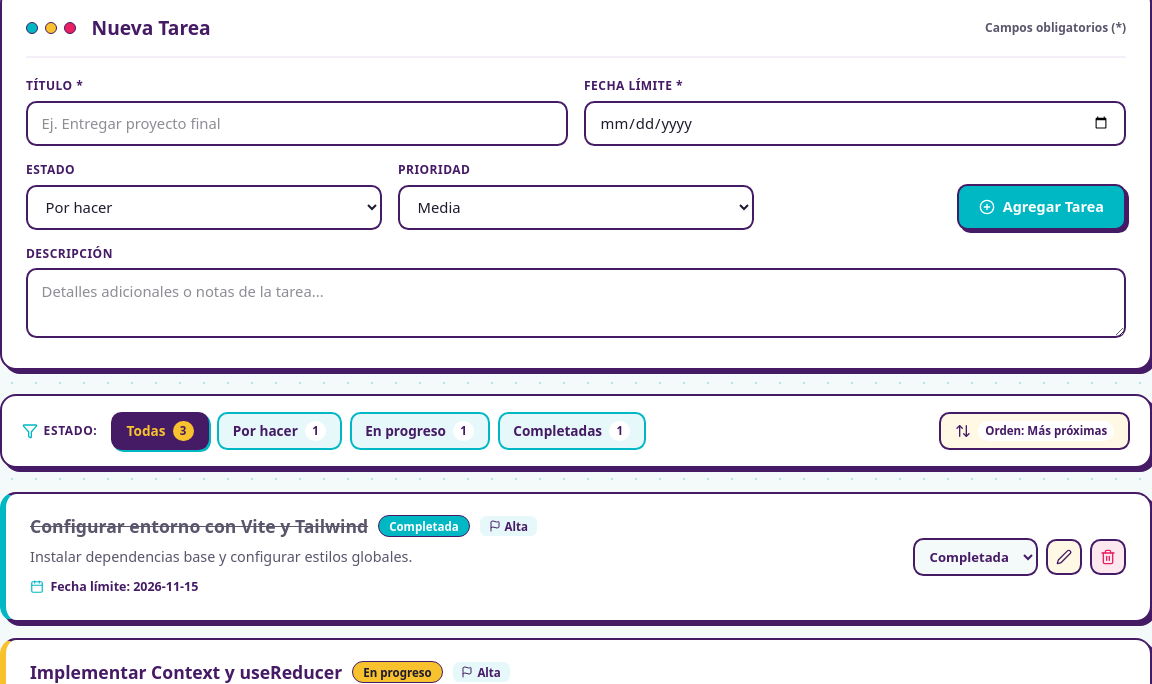
Test: TaskListView Integration › permite crear una tarea y mostrarla en la lista
The width and height of the screenshot is (1152, 684).
Type "Preparar exposición" into the field labelled "Título *" at (297, 124), box [26, 101, 568, 146]
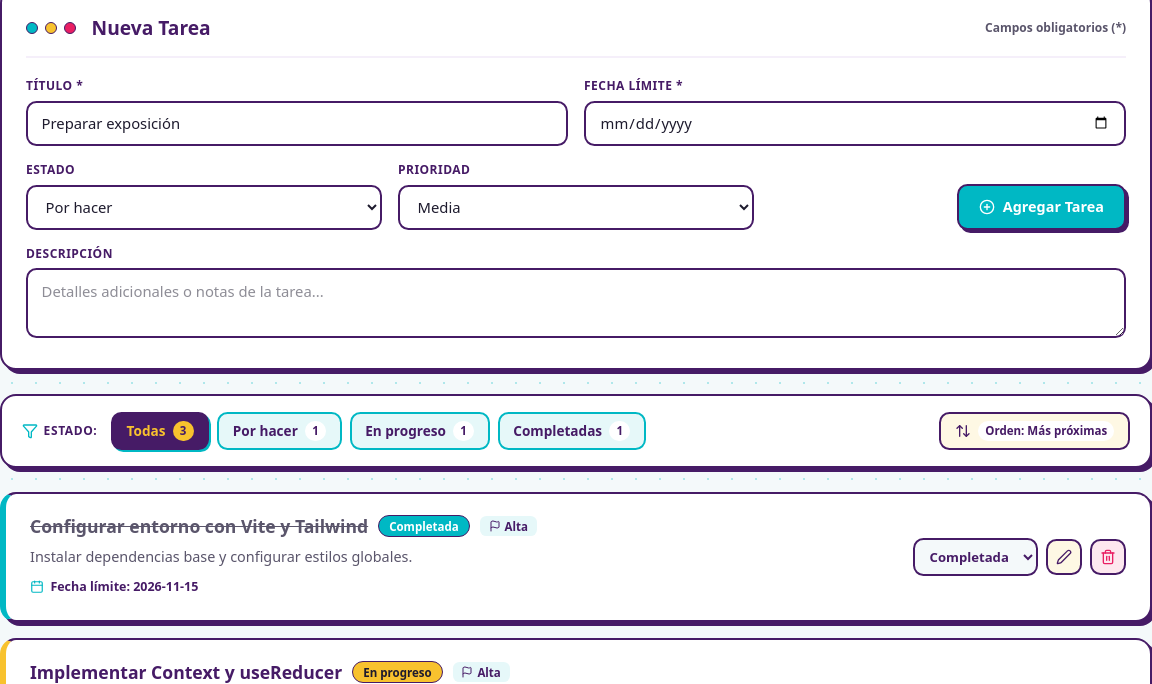
Type "2026-11-28" into the date field labelled "Fecha límite *" at (855, 124), box [584, 101, 1126, 146]
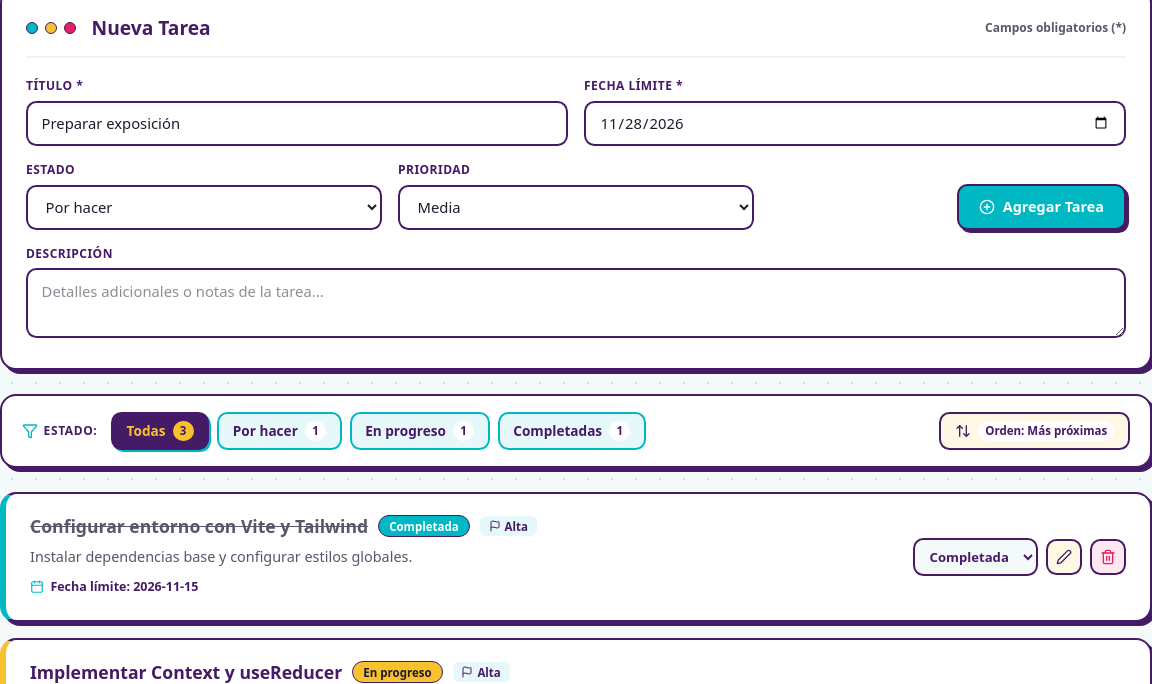
Click the button "Agregar Tarea" at (1041, 207), box [957, 184, 1126, 230]
(page scrolled)
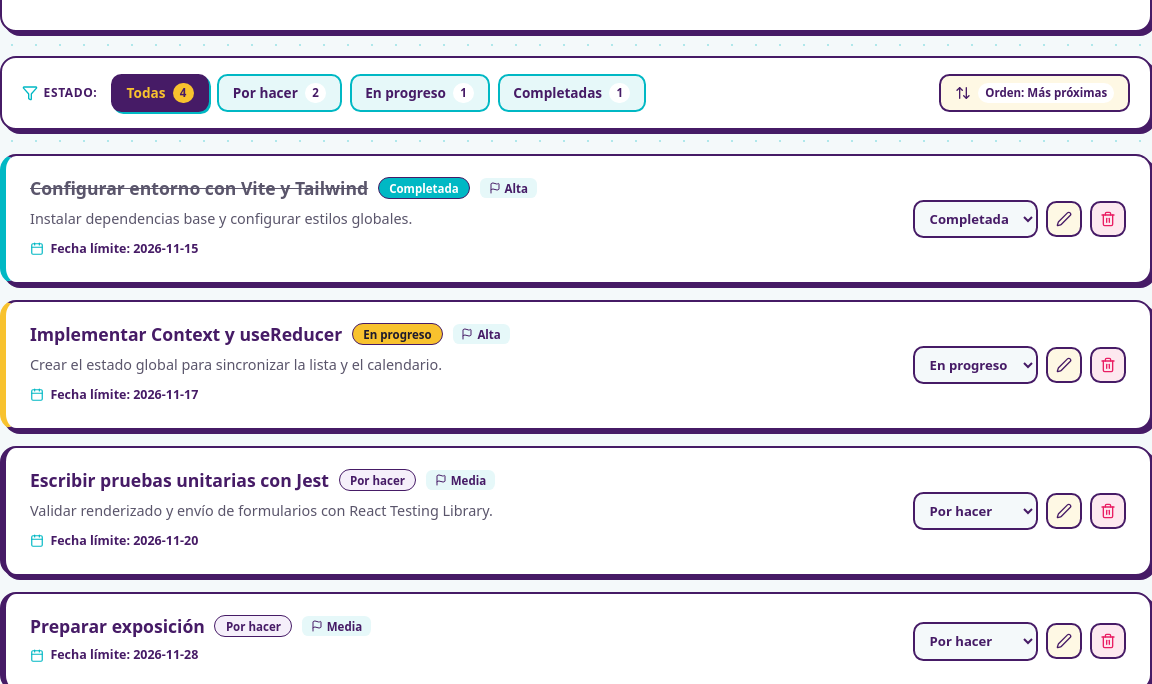
Check: the heading "Preparar exposición" is shown, box [30, 614, 205, 638]
